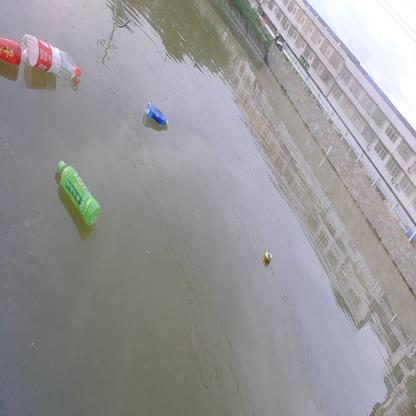can: (263, 250, 274, 261)
plastic bottle: (56, 160, 101, 227), (21, 32, 81, 81), (144, 102, 170, 127), (1, 37, 20, 64)
